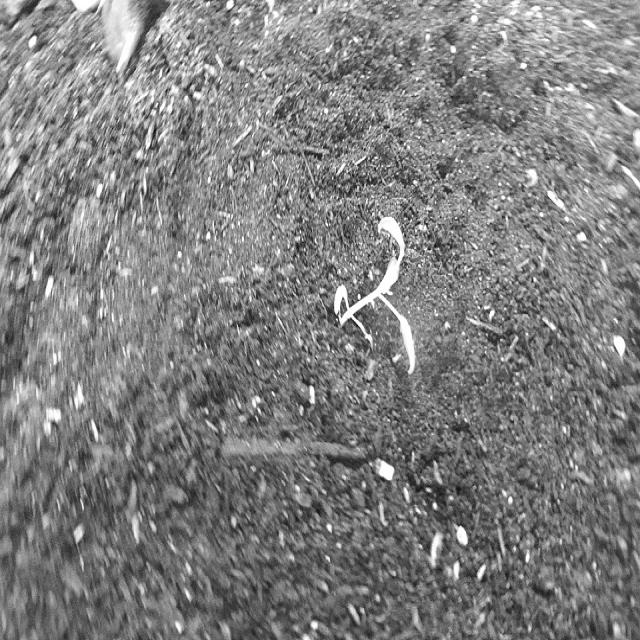Healthy: (325, 198, 429, 384)
